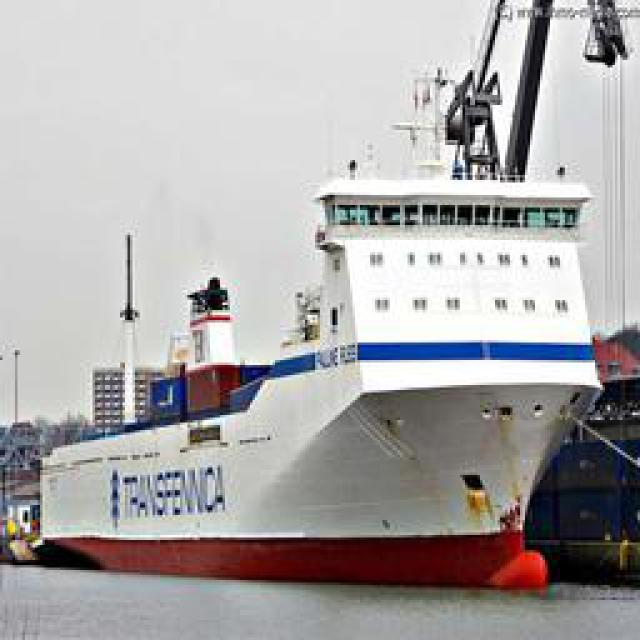Ship: (30, 100, 620, 595)
